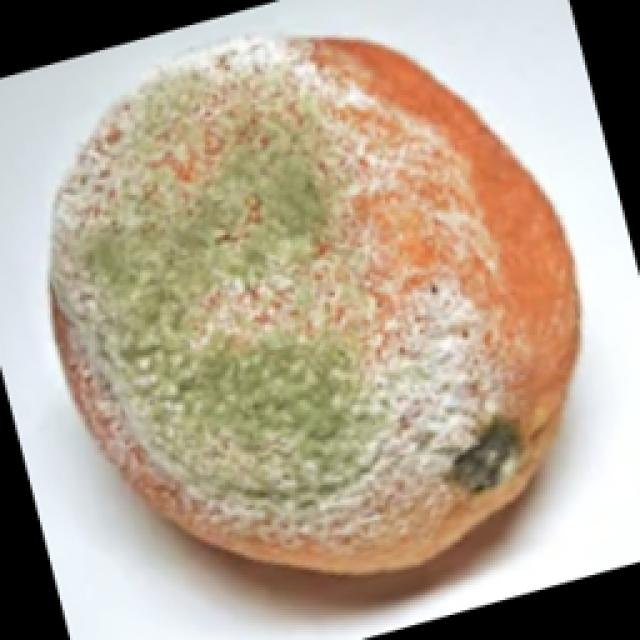Rotten_Orange: (22, 28, 614, 597)
